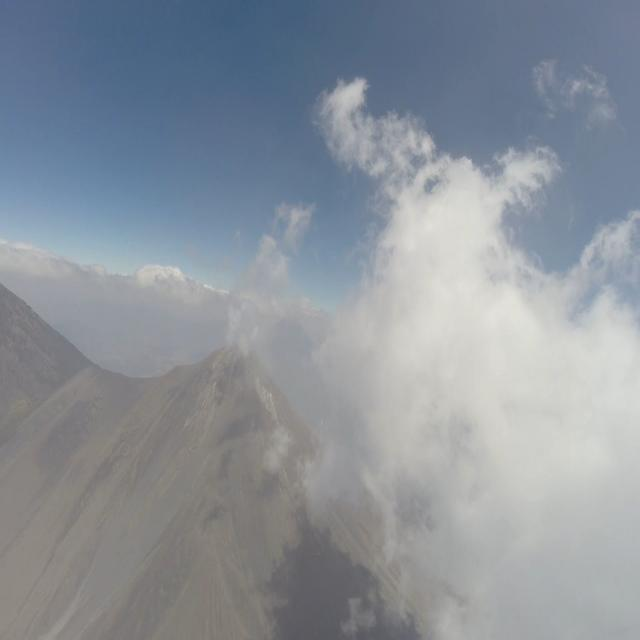Summit: (165, 336, 312, 428)
